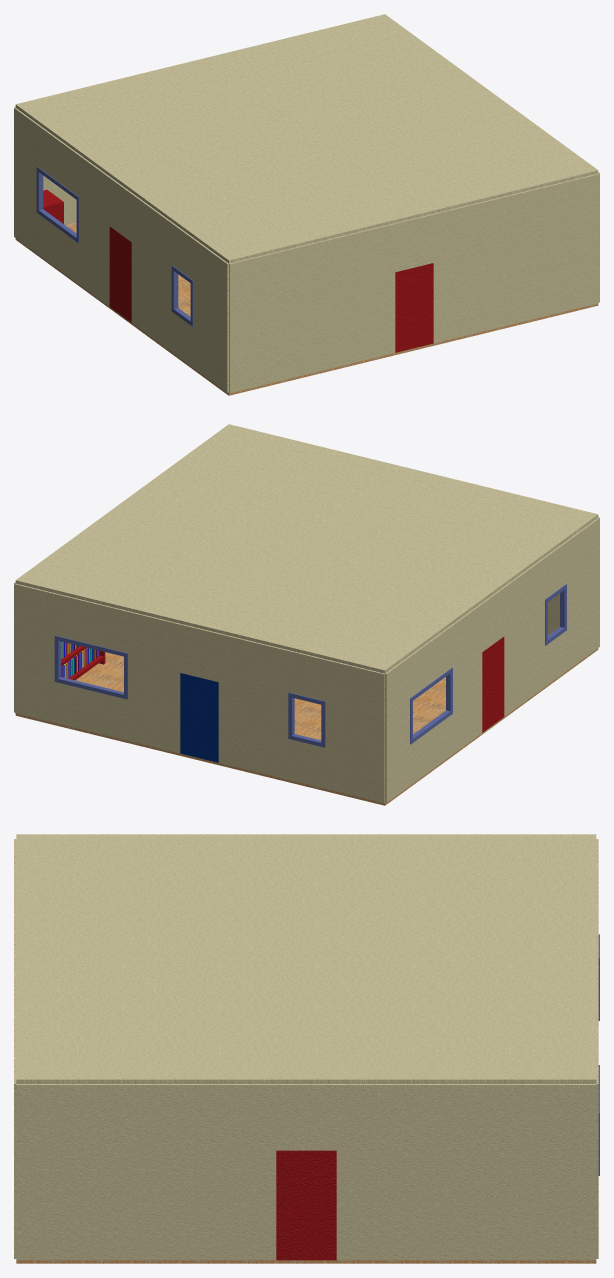
Rendered from plainDoorRoom.fbx.
3 views of the same model, one above another, from view 1: azimuth 30°, elevation 25°; view 2: azimuth 150°, elevation 25°; view 3: azimuth 270°, elevation 25° (orthographic). The views are drawn at different scales.
Visible parts, largest first — view 1: ceiling, wall.4, wall.3, door.4, floor, door.3, frame.3.1.1, frame.3.1, wall.1; view 2: ceiling, wall.1, wall.3, floor, door.1, door.3, frame.1.2, frame.3.1.1, frame.1.1, frame.3.1, books.1; view 3: ceiling, wall.2, door.2, floor, wall.1, wall.4.
Boxes of the visible parts, x1=… form: ceiling: x1=15, y1=14, x2=598, y2=263; wall.4: x1=229, y1=173, x2=599, y2=392; wall.3: x1=14, y1=107, x2=228, y2=392; door.4: x1=395, y1=263, x2=433, y2=352; floor: x1=15, y1=222, x2=598, y2=395; door.3: x1=109, y1=226, x2=131, y2=322; frame.3.1.1: x1=36, y1=166, x2=79, y2=243; frame.3.1: x1=171, y1=265, x2=193, y2=326; wall.1: x1=14, y1=106, x2=76, y2=224; ceiling: x1=15, y1=424, x2=598, y2=673; wall.1: x1=14, y1=583, x2=384, y2=802; wall.3: x1=385, y1=517, x2=599, y2=802; floor: x1=15, y1=635, x2=598, y2=805; door.1: x1=180, y1=673, x2=218, y2=762; door.3: x1=482, y1=636, x2=504, y2=732; frame.1.2: x1=54, y1=635, x2=127, y2=699; frame.3.1.1: x1=410, y1=667, x2=452, y2=744; frame.1.1: x1=288, y1=692, x2=325, y2=747; frame.3.1: x1=545, y1=584, x2=566, y2=645; books.1: x1=61, y1=647, x2=99, y2=678; ceiling: x1=16, y1=834, x2=596, y2=1083; wall.2: x1=16, y1=1084, x2=596, y2=1260; door.2: x1=276, y1=1150, x2=336, y2=1260; floor: x1=16, y1=1260, x2=596, y2=1263; wall.1: x1=596, y1=839, x2=598, y2=1258; wall.4: x1=14, y1=839, x2=16, y2=1258.
Bounding box in the file's own units: 1213 × 420 × 1212.
